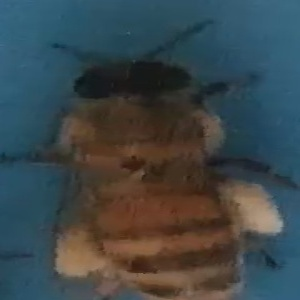bee: (23, 36, 290, 294)
